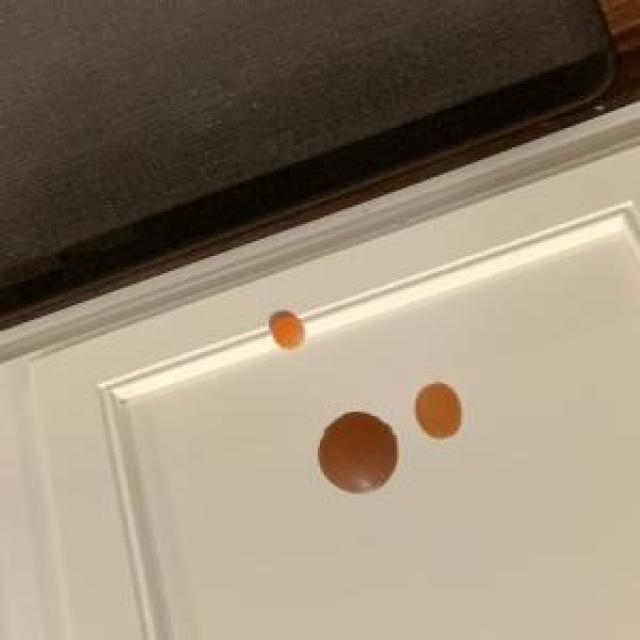Bactidol: (308, 406, 400, 500), (408, 369, 469, 461), (260, 301, 310, 365)
